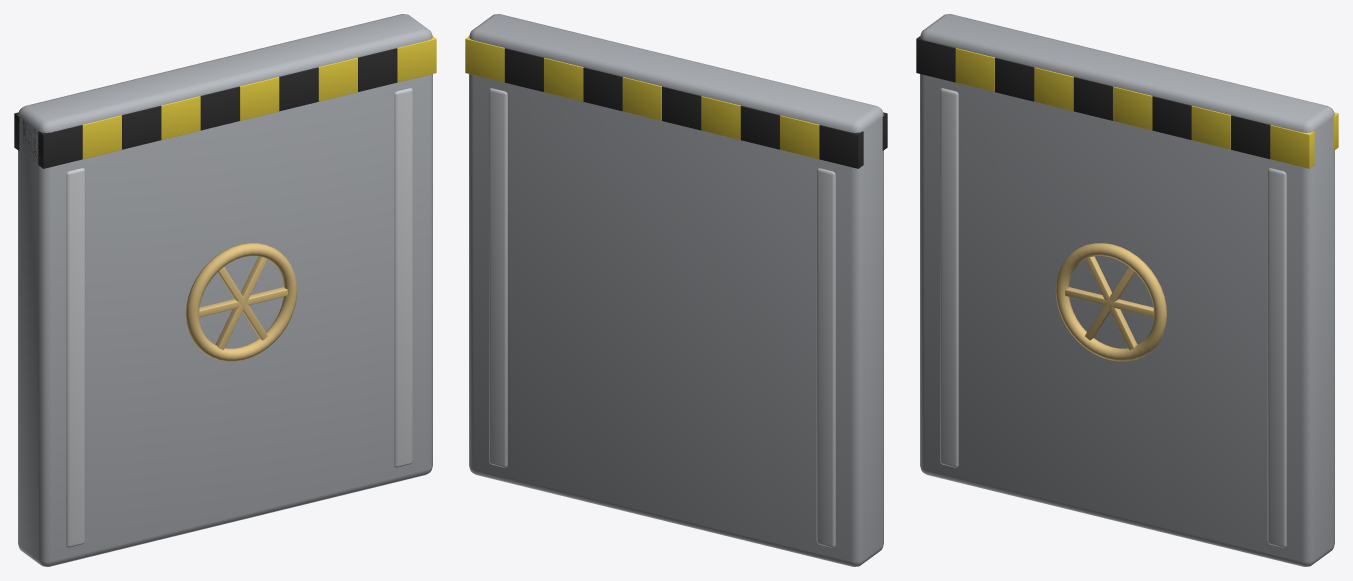
The model's file is blastdoor.glb.
3 views of the same model, side by side, from view 1: azimuth 30°, elevation 25°; view 2: azimuth 150°, elevation 25°; view 3: azimuth 330°, elevation 25° (orthographic).
Parts seen in each view (by area): view 1: door, bolt-1.0, bolt1.0, wheel, hz0, hz9, hz6, hz4, hz7, hz8, hz1, hz2 (+5 smaller); view 2: door, bolt-1.0, bolt1.0, hz0, hz9, hz6, hz4, hz7, hz8, hz1, hz2, hz3 (+1 smaller); view 3: door, bolt1.0, bolt-1.0, wheel, hz9, hz0, hz3, hz2, hz5, hz1, hz4, hz6 (+5 smaller).
Boxes of the visible parts, x1=… form: door: x1=18, y1=14, x2=432, y2=566; bolt-1.0: x1=66, y1=168, x2=85, y2=547; bolt1.0: x1=394, y1=88, x2=412, y2=467; wheel: x1=186, y1=243, x2=297, y2=361; hz0: x1=14, y1=112, x2=82, y2=168; hz9: x1=397, y1=36, x2=436, y2=82; hz6: x1=279, y1=67, x2=318, y2=111; hz4: x1=200, y1=86, x2=239, y2=130; hz7: x1=318, y1=57, x2=357, y2=101; hz8: x1=358, y1=48, x2=397, y2=91; hz1: x1=82, y1=115, x2=121, y2=159; hz2: x1=122, y1=105, x2=161, y2=149; door: x1=469, y1=14, x2=883, y2=566; bolt-1.0: x1=816, y1=168, x2=835, y2=547; bolt1.0: x1=489, y1=88, x2=507, y2=467; hz0: x1=819, y1=112, x2=887, y2=168; hz9: x1=465, y1=36, x2=504, y2=82; hz6: x1=583, y1=67, x2=622, y2=111; hz4: x1=662, y1=86, x2=701, y2=130; hz7: x1=544, y1=57, x2=583, y2=101; hz8: x1=504, y1=48, x2=543, y2=91; hz1: x1=780, y1=115, x2=819, y2=159; hz2: x1=740, y1=105, x2=779, y2=149; hz3: x1=701, y1=96, x2=740, y2=139; door: x1=920, y1=14, x2=1334, y2=566; bolt1.0: x1=1267, y1=168, x2=1286, y2=547; bolt-1.0: x1=940, y1=88, x2=958, y2=467; wheel: x1=1055, y1=243, x2=1166, y2=361; hz9: x1=1270, y1=112, x2=1338, y2=168; hz0: x1=916, y1=36, x2=955, y2=82; hz3: x1=1034, y1=67, x2=1073, y2=111; hz2: x1=995, y1=57, x2=1034, y2=101; hz5: x1=1113, y1=86, x2=1152, y2=130; hz1: x1=955, y1=48, x2=994, y2=91; hz4: x1=1073, y1=77, x2=1112, y2=120; hz6: x1=1152, y1=96, x2=1191, y2=139.
Bounding box in the file's own units: 2.4 × 2.6 × 0.3633.
